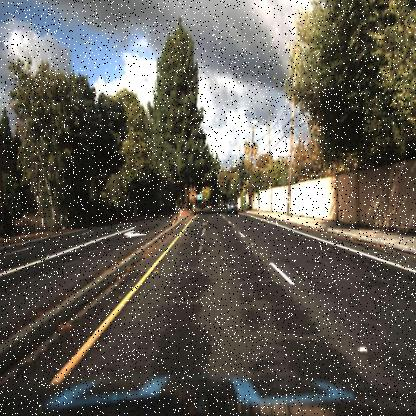car: (226, 200, 240, 214)
